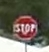stop: (12, 13, 38, 40)
